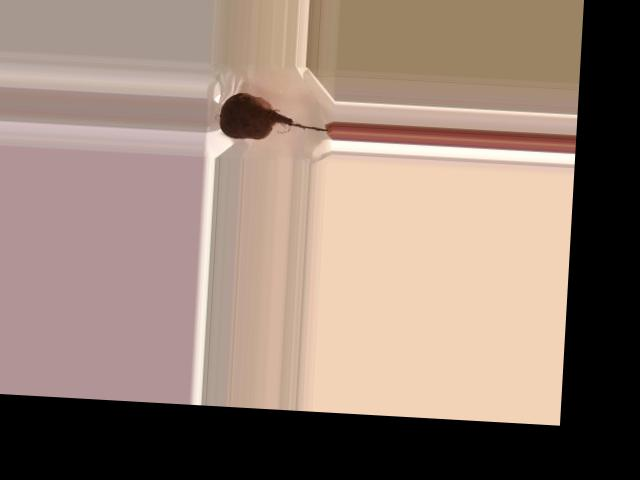beet: (218, 91, 330, 143)
